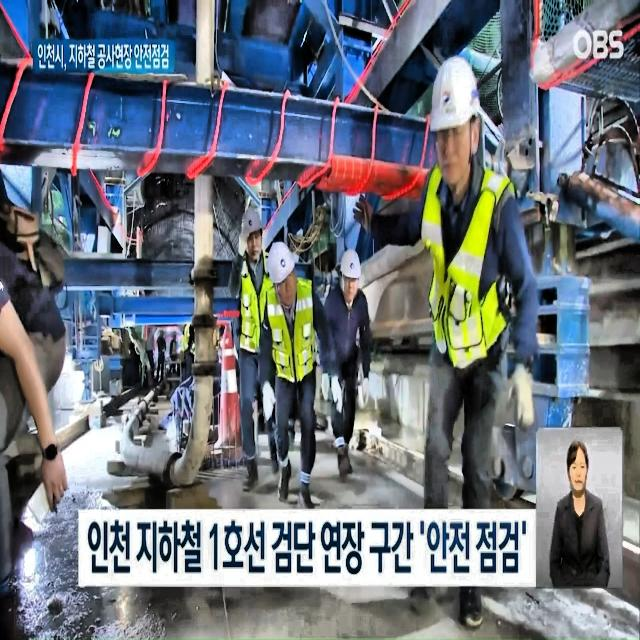safety_helmet: (431, 48, 482, 135), (268, 240, 298, 288), (339, 245, 361, 283), (242, 202, 262, 242)
safety_jacket: (421, 168, 523, 374), (266, 279, 318, 384), (241, 252, 278, 362)
